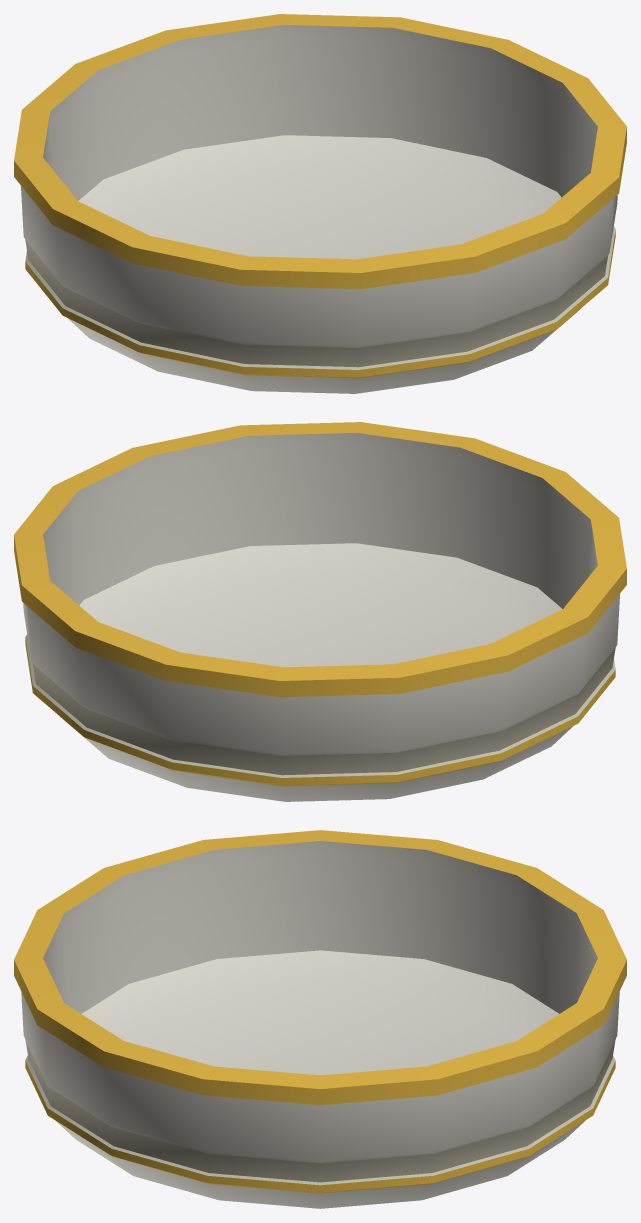
File: reservoir-basin.lod1.glb
3 renders of one model, top to bottom at view 1: azimuth 30°, elevation 25°; view 2: azimuth 150°, elevation 25°; view 3: azimuth 270°, elevation 25°, orthographic.
Visible parts, largest first — view 1: reservoir-basin_lod1; view 2: reservoir-basin_lod1; view 3: reservoir-basin_lod1.
Part boxes in pixels (left/top/right/bottom): reservoir-basin_lod1: left=14, top=14, right=626, bottom=393; reservoir-basin_lod1: left=14, top=422, right=626, bottom=801; reservoir-basin_lod1: left=14, top=830, right=626, bottom=1208.
Size of the model in its own units: 1.9 by 0.535 by 1.9.
